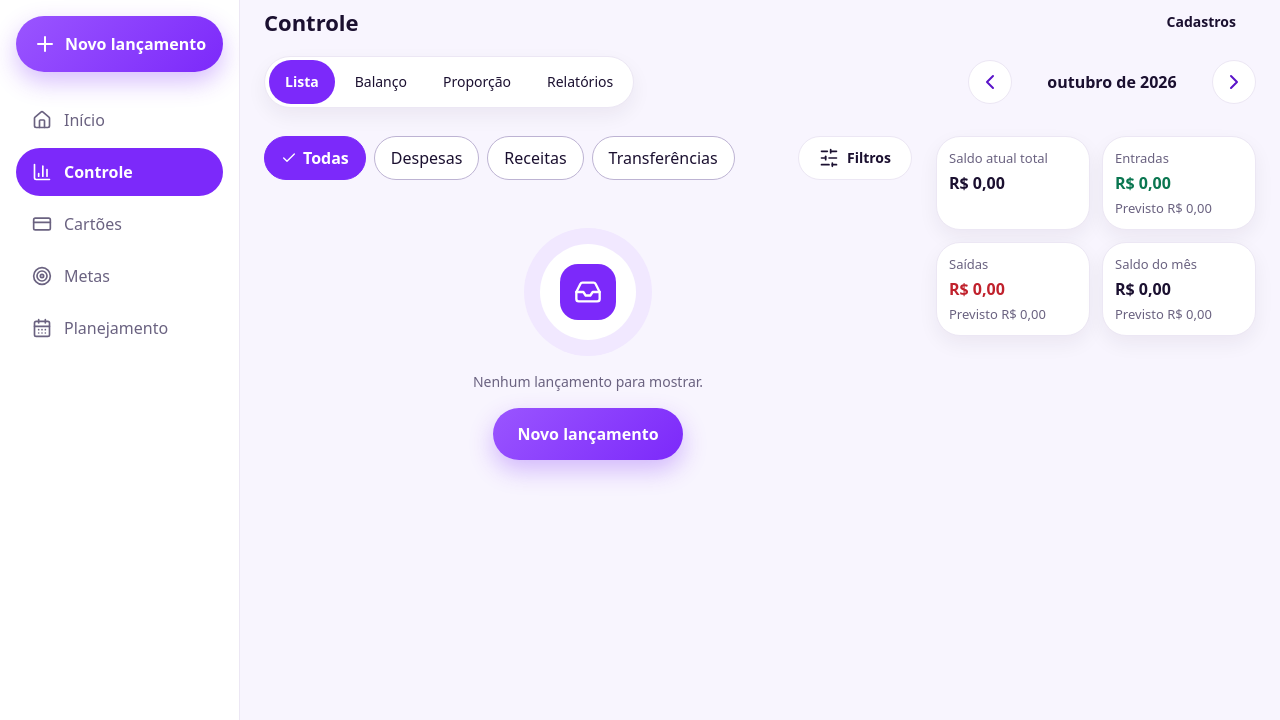
it: menu "+" (CA-0.02) › a opção "Receita" fecha o menu e abre o formulário "Nova receita"
Expected: the heading "Controle" is shown, [264,7,358,37]
Click the 1st button "Novo lançamento" at (120, 44), box [16,16,223,72]
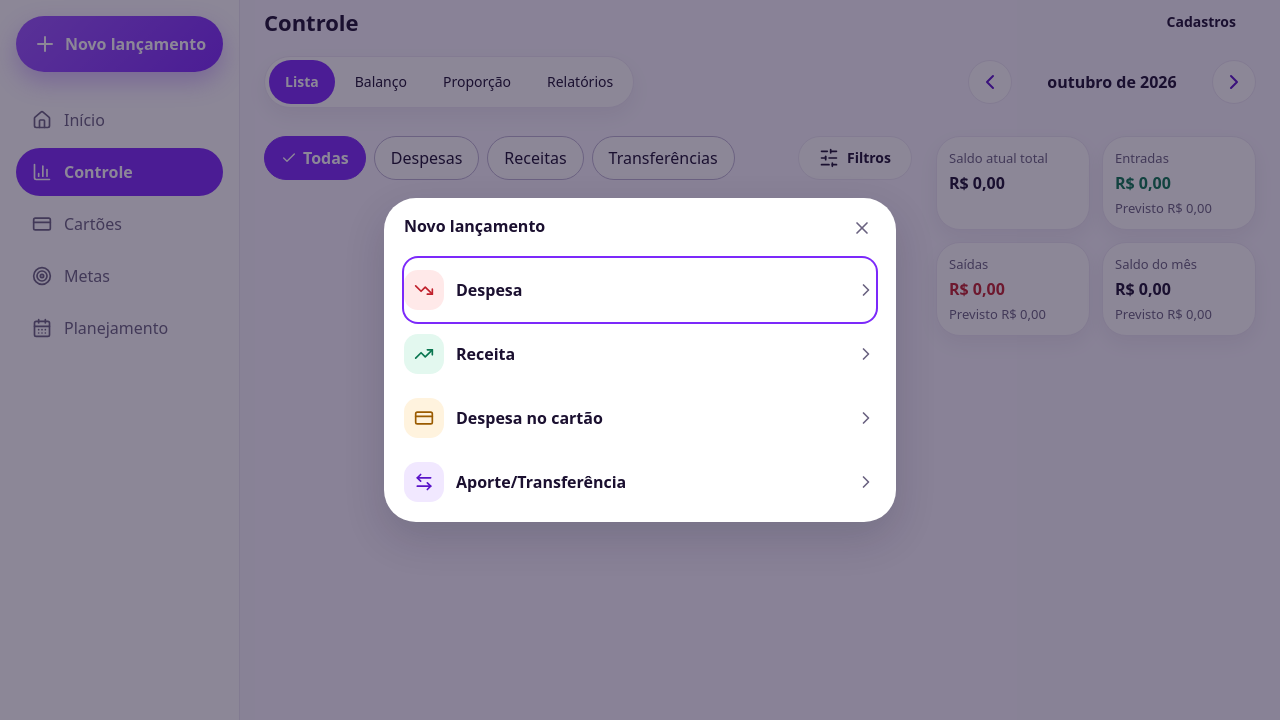
Click the button "Receita" at (424, 354), box [404,322,876,386]
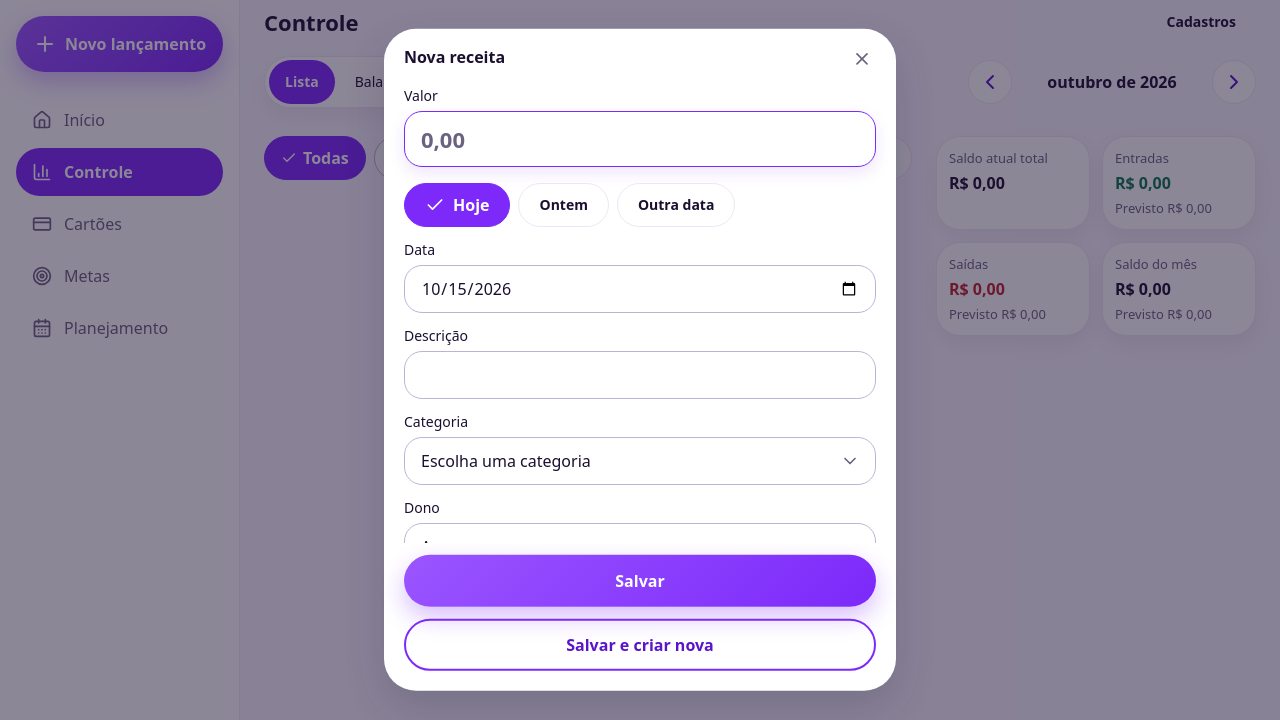
Expected: the dialog "Nova receita" is shown, [384,29,896,691]
